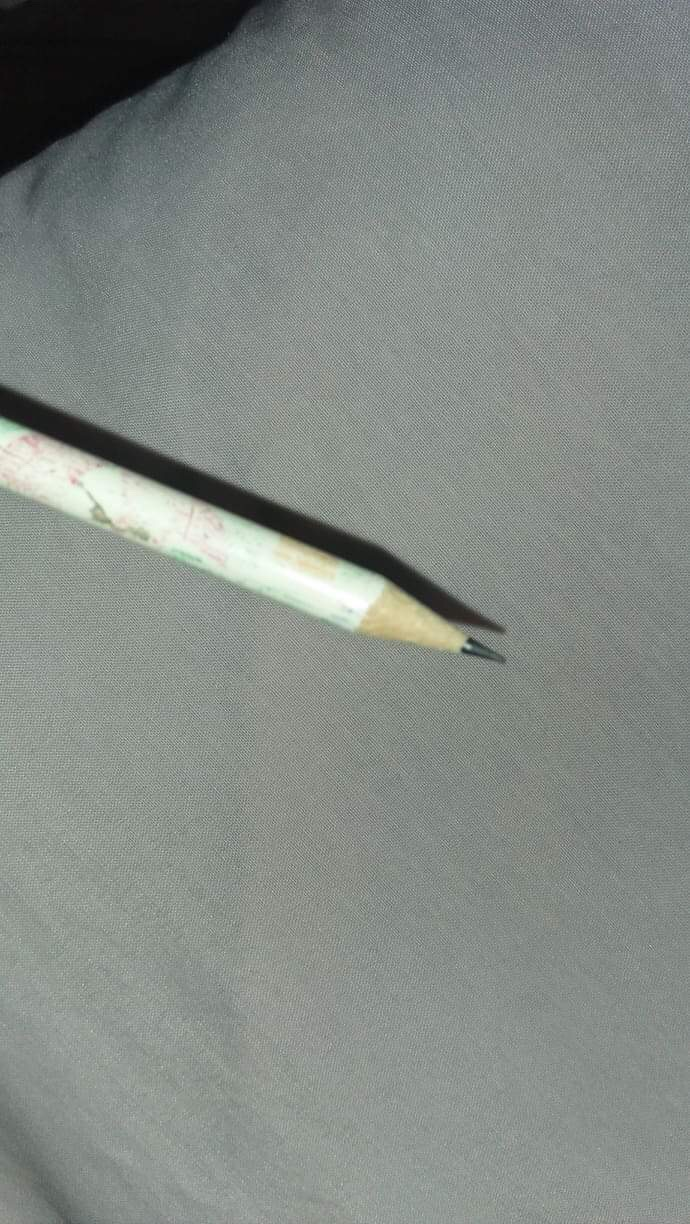pen_tip: (325, 525, 515, 690)
